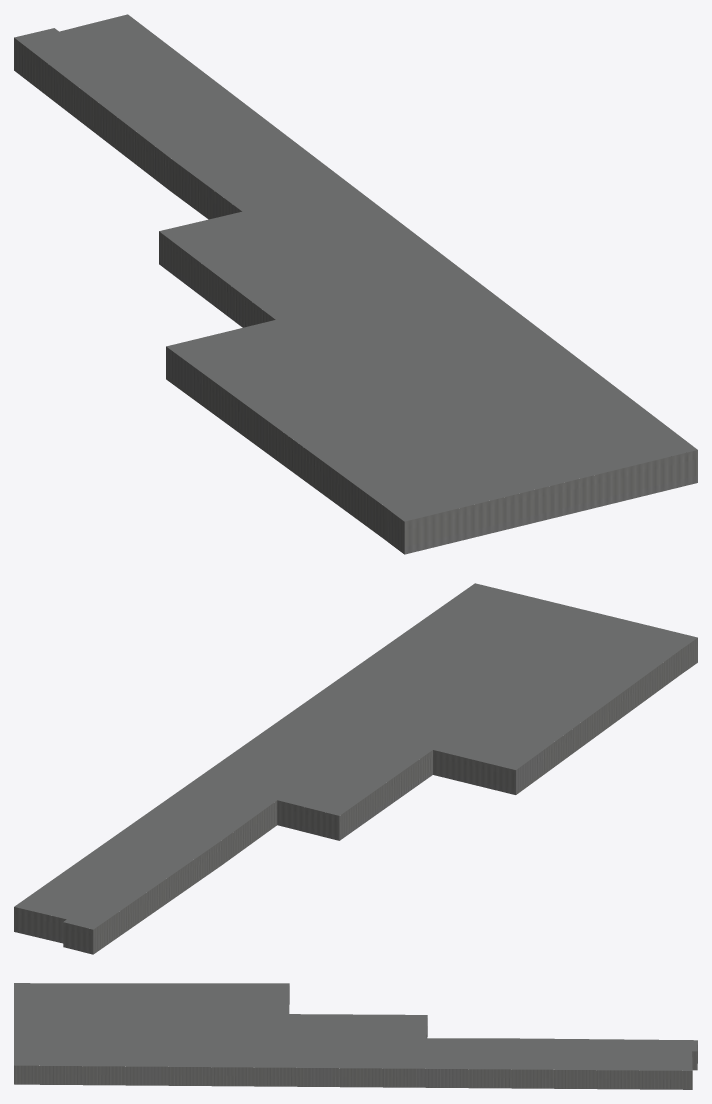
Rendered from sdsc_mro_oficinas.leve.glb.
3 views of the same model, one above another, from view 1: azimuth 30°, elevation 25°; view 2: azimuth 150°, elevation 25°; view 3: azimuth 270°, elevation 25° (orthographic). The views are drawn at different scales.
Visible parts, largest first — view 1: sdsc_mro_oficinas; view 2: sdsc_mro_oficinas; view 3: sdsc_mro_oficinas.
Part boxes in pixels (bbox=[...]): sdsc_mro_oficinas: bbox=[14, 14, 697, 554]; sdsc_mro_oficinas: bbox=[14, 583, 697, 954]; sdsc_mro_oficinas: bbox=[14, 983, 697, 1089].
Size of the model in its own units: 143 by 14.4 by 470.
Materials: 2 (1 with a texture image).
